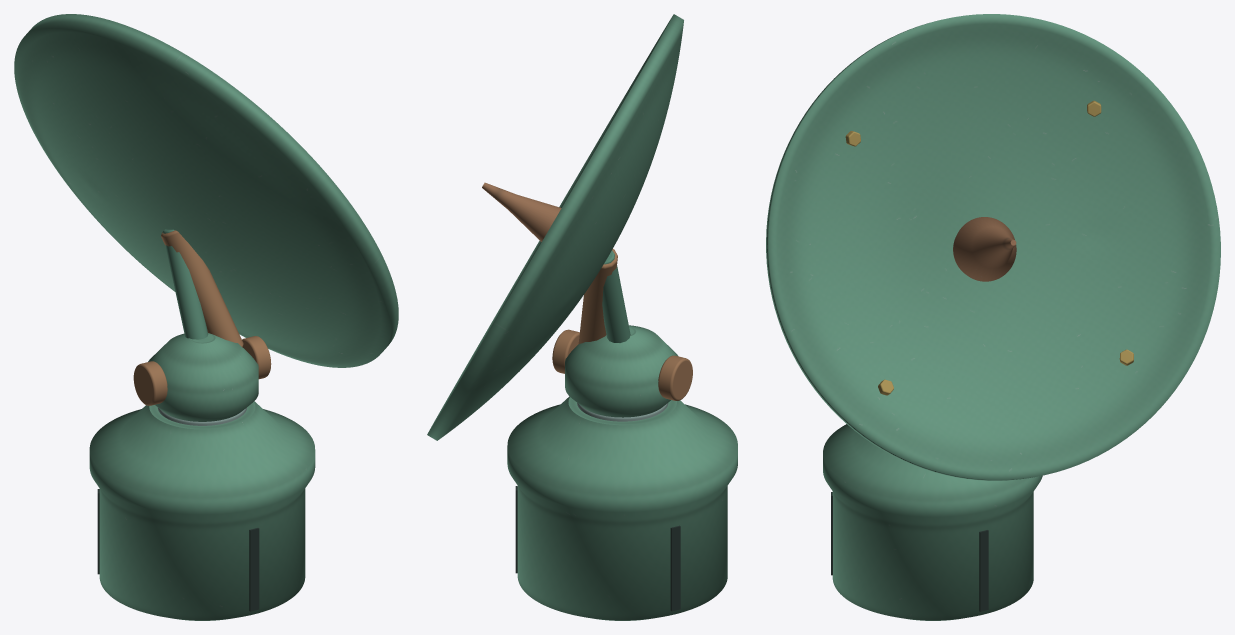
3 views of the same model, side by side, from view 1: azimuth 30°, elevation 25°; view 2: azimuth 150°, elevation 25°; view 3: azimuth 270°, elevation 25° (orthographic). The views are drawn at different scales.
Parts seen in each view (by area): view 1: RI22 concave collector shell, RI22 fixed green pedestal, RI22 green yaw housing, RI22 copper rear support, RI22 inclined green support, RI22 copper yoke cap -1, RI22 lower base inset 0, RI22 copper yoke cap 1; view 2: RI22 fixed green pedestal, RI22 concave collector shell, RI22 green yaw housing, RI22 copper collector feed, RI22 copper rear support, RI22 inclined green support, RI22 copper yoke cap -1, RI22 lower base inset 2, RI22 copper yoke cap 1, RI22 static yaw bearing; view 3: RI22 concave collector shell, RI22 fixed green pedestal, RI22 copper collector feed, RI22 lower base inset 1.
Boxes of the visible parts, x1=… form: RI22 concave collector shell: x1=14, y1=14, x2=398, y2=367; RI22 fixed green pedestal: x1=89, y1=401, x2=315, y2=620; RI22 green yaw housing: x1=148, y1=333, x2=258, y2=421; RI22 copper rear support: x1=161, y1=230, x2=243, y2=347; RI22 inclined green support: x1=162, y1=229, x2=208, y2=339; RI22 copper yoke cap -1: x1=133, y1=361, x2=167, y2=405; RI22 lower base inset 0: x1=249, y1=528, x2=259, y2=611; RI22 copper yoke cap 1: x1=242, y1=336, x2=271, y2=379; RI22 fixed green pedestal: x1=507, y1=396, x2=737, y2=620; RI22 concave collector shell: x1=427, y1=14, x2=683, y2=440; RI22 green yaw housing: x1=565, y1=325, x2=677, y2=417; RI22 copper collector feed: x1=482, y1=182, x2=561, y2=241; RI22 copper rear support: x1=578, y1=249, x2=617, y2=343; RI22 inclined green support: x1=602, y1=250, x2=630, y2=342; RI22 copper yoke cap -1: x1=658, y1=355, x2=692, y2=400; RI22 lower base inset 2: x1=670, y1=525, x2=680, y2=611; RI22 copper yoke cap 1: x1=552, y1=329, x2=579, y2=373; RI22 static yaw bearing: x1=577, y1=403, x2=668, y2=421; RI22 concave collector shell: x1=766, y1=14, x2=1220, y2=480; RI22 fixed green pedestal: x1=823, y1=424, x2=1042, y2=620; RI22 copper collector feed: x1=953, y1=217, x2=1016, y2=281; RI22 lower base inset 1: x1=979, y1=530, x2=988, y2=611.
Bounding box in the file's own units: 0.8537 × 1.86 × 1.4.
Materials: 9 (4 with a texture image).
